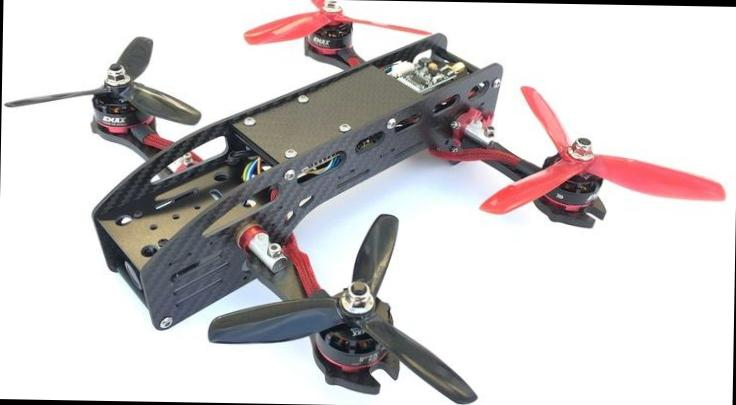drone: (9, 4, 736, 405)
